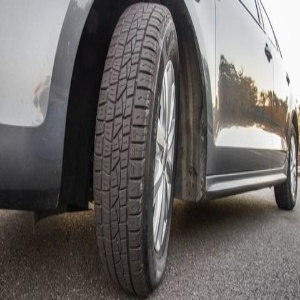train: (92, 4, 180, 293)
